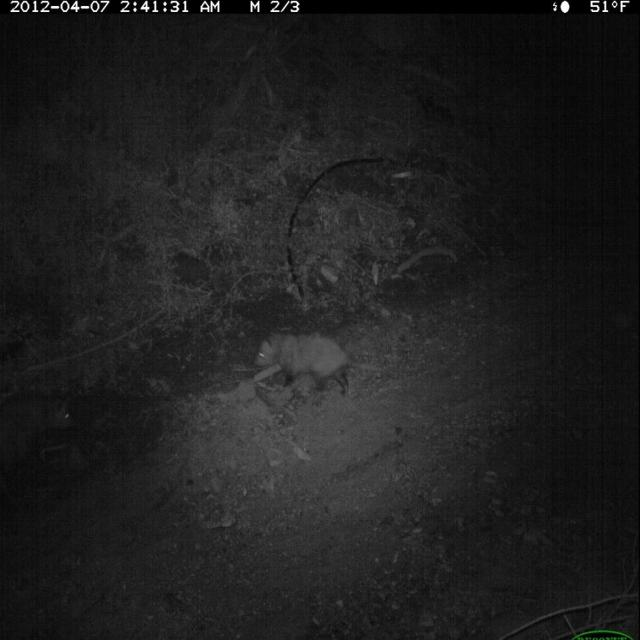opossum: (248, 322, 386, 400), (1, 386, 76, 457)
